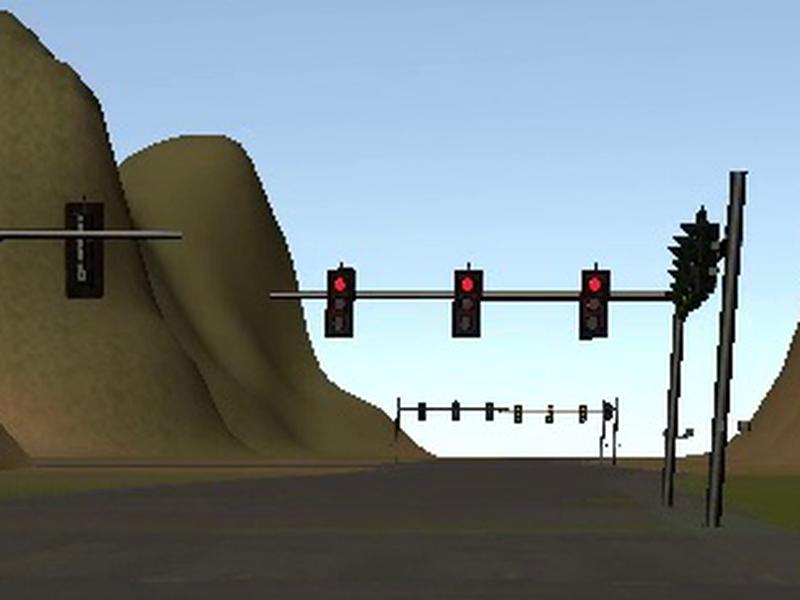Red: (578, 269, 611, 341), (450, 269, 483, 339), (324, 267, 354, 338)
